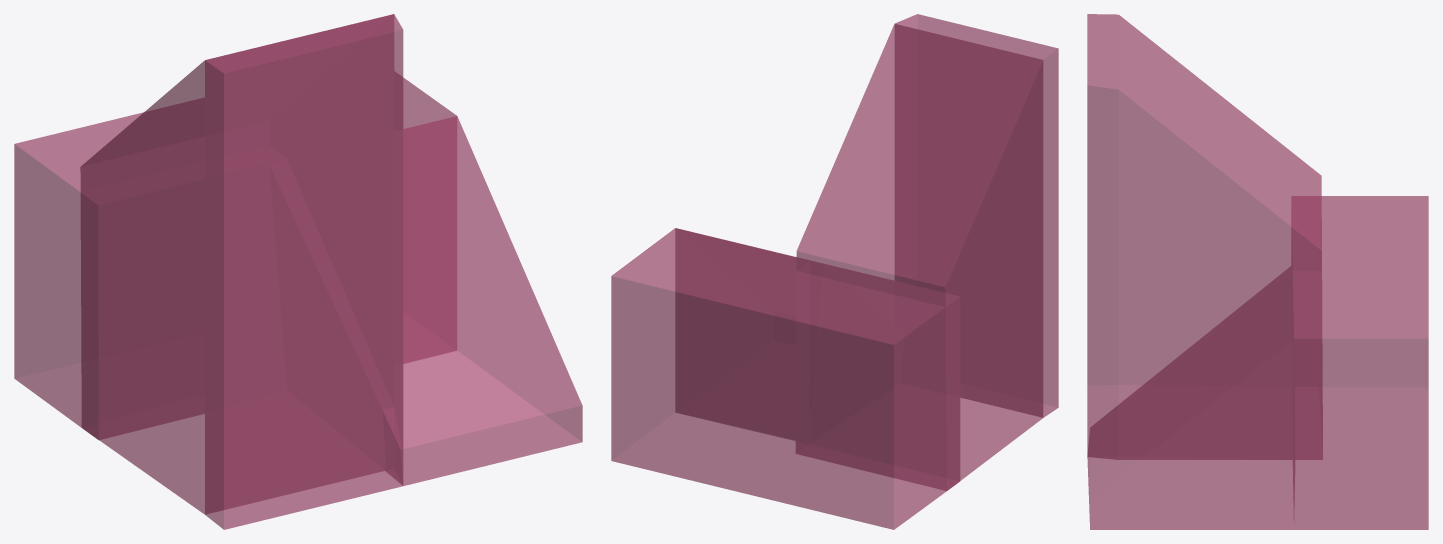
The model's file is SM_Bld_Stairs_Corner_01_Collision.fbx.
The picture shows the model from 3 angles, left to right: view 1: azimuth 30°, elevation 25°; view 2: azimuth 150°, elevation 25°; view 3: azimuth 270°, elevation 25°; orthographic projection. The views are drawn at different scales.
Visible parts, largest first — view 1: SM_Bld_Stairs_Corner_01_Collision; view 2: SM_Bld_Stairs_Corner_01_Collision; view 3: SM_Bld_Stairs_Corner_01_Collision.
Boxes of the visible parts, x1,y1,x2,y2 form: SM_Bld_Stairs_Corner_01_Collision: (14,14,582,529); SM_Bld_Stairs_Corner_01_Collision: (611,14,1058,529); SM_Bld_Stairs_Corner_01_Collision: (1087,14,1428,529).
Bounding box in the file's own units: 254 × 308 × 255.
